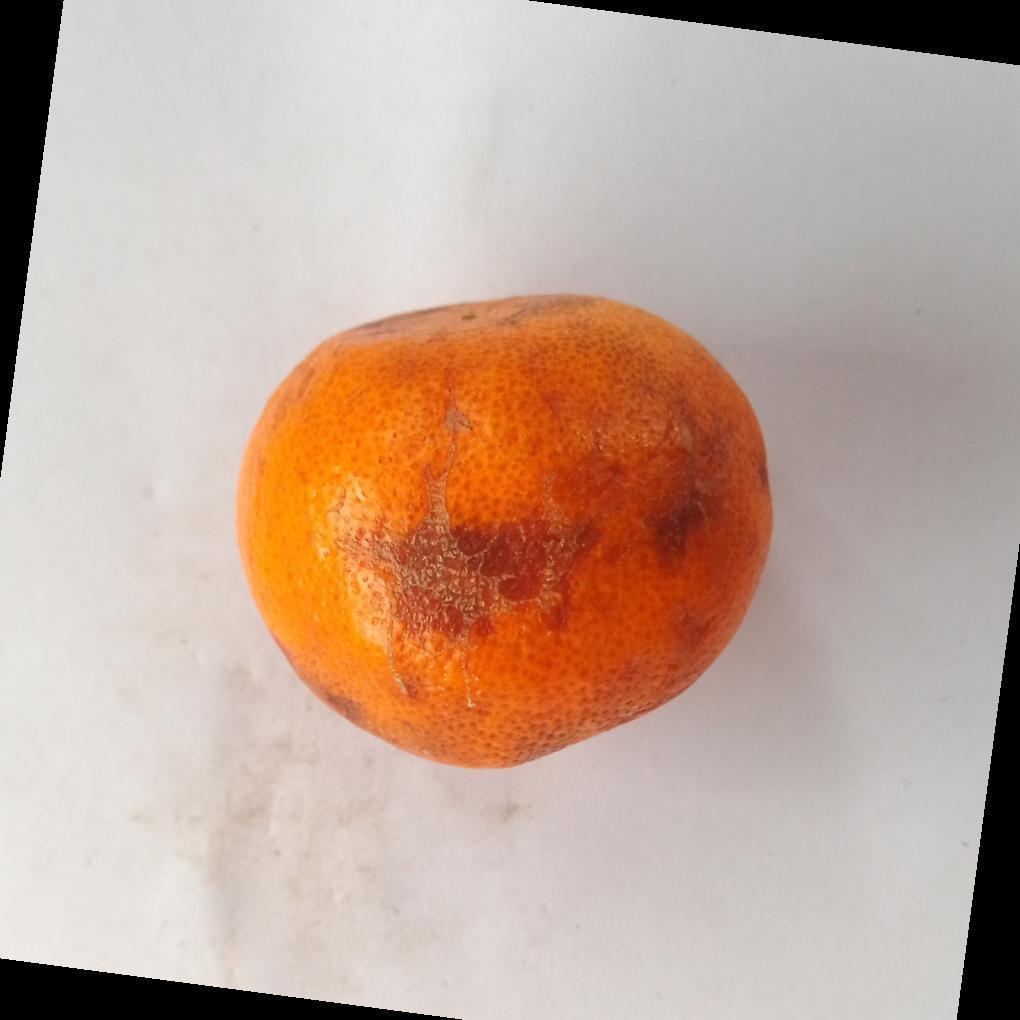FreshOrange: (234, 295, 775, 773)
